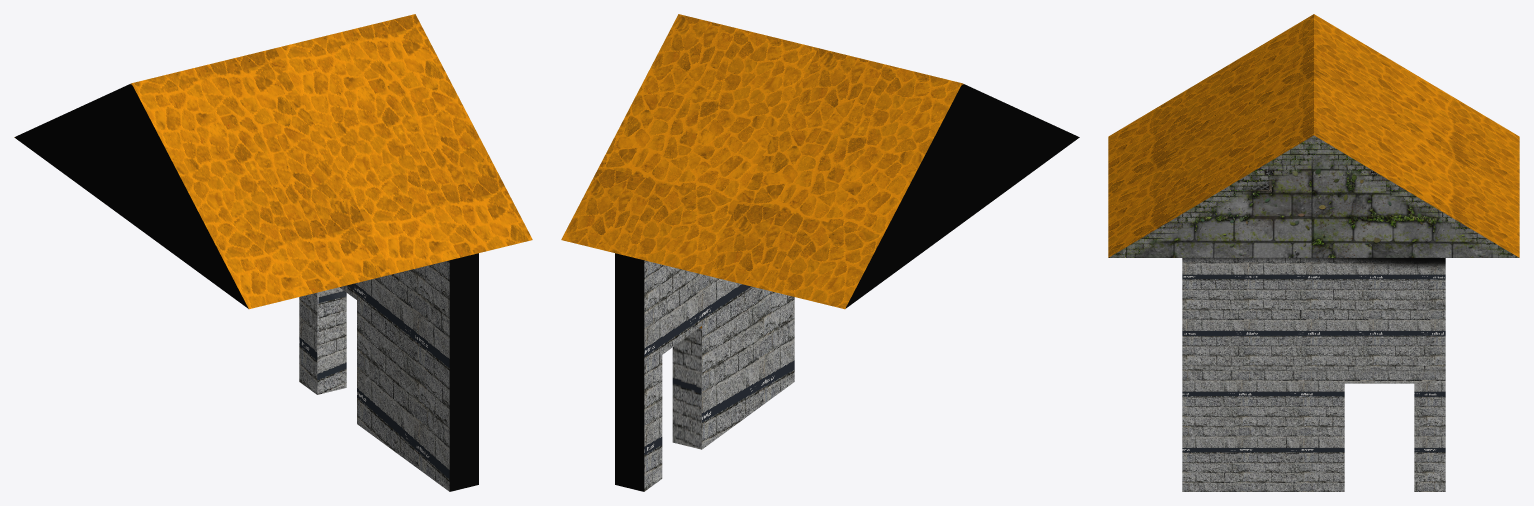
The model's file is house_base.glb.
The picture shows the model from 3 angles, left to right: view 1: azimuth 30°, elevation 25°; view 2: azimuth 150°, elevation 25°; view 3: azimuth 270°, elevation 25°; orthographic projection. The views are drawn at different scales.
Parts seen in each view (by area): view 1: Cube; view 2: Cube; view 3: Cube.
Part boxes in pixels (bbox=[...]): Cube: bbox=[14, 14, 532, 491]; Cube: bbox=[561, 14, 1079, 491]; Cube: bbox=[1108, 14, 1519, 491].
Size of the model in its own units: 2.18 by 3.03 by 3.12.
Materials: 1 (1 with a texture image).
